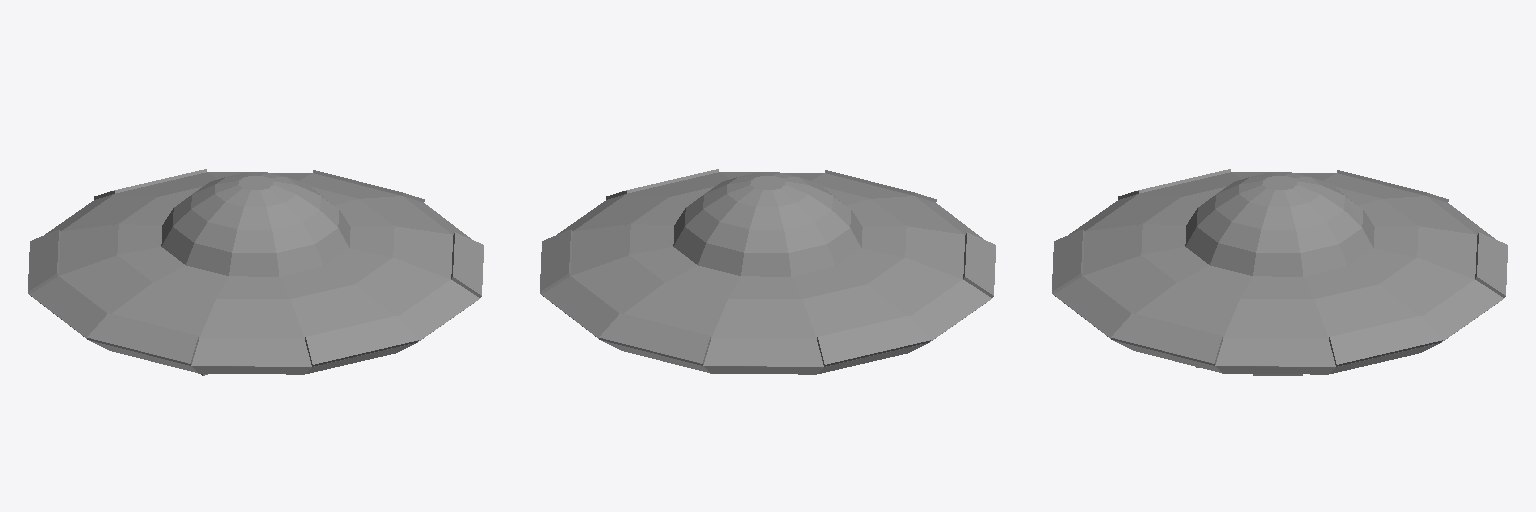
File: ANTSpaceship.obj
3 renders of one model, left to right at view 1: azimuth 30°, elevation 25°; view 2: azimuth 150°, elevation 25°; view 3: azimuth 270°, elevation 25°, orthographic.
Parts seen in each view (by area): view 1: Cylinder001; view 2: Cylinder001; view 3: Cylinder001.
Boxes of the visible parts, x1=… form: Cylinder001: x1=28, y1=169, x2=483, y2=375; Cylinder001: x1=540, y1=169, x2=995, y2=374; Cylinder001: x1=1052, y1=169, x2=1507, y2=375.
Size of the model in its own units: 61.56 by 21.73 by 61.62.